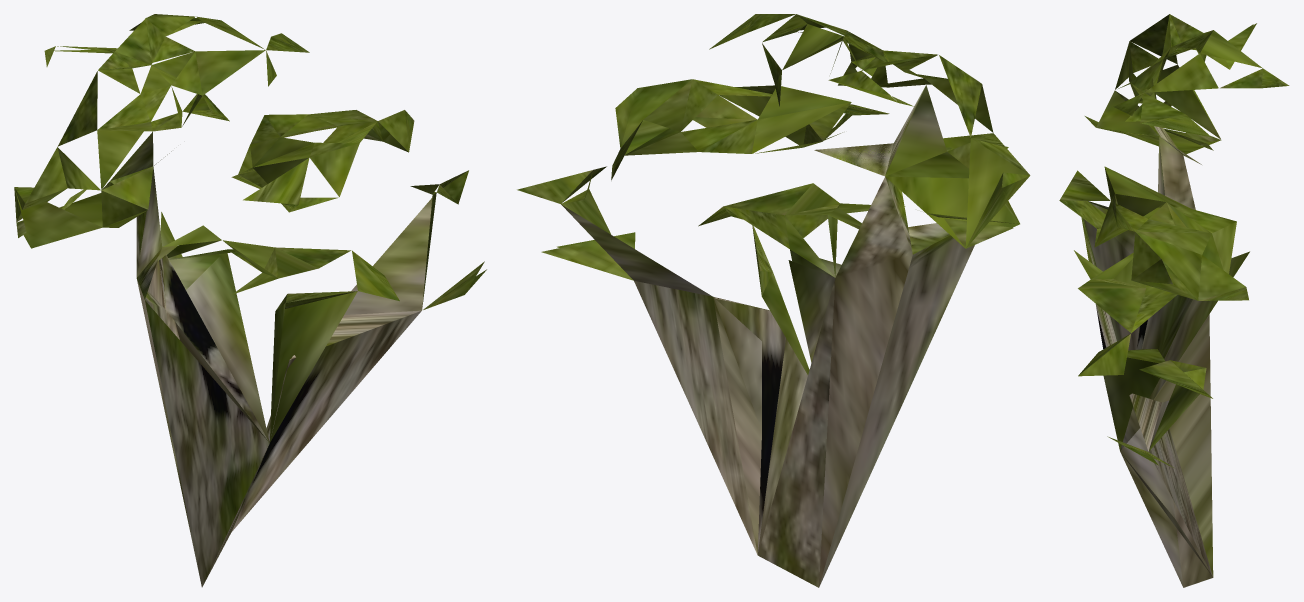
The model's file is fo_forkwood_tree_lod2.glb.
3 renders of one model, left to right at view 1: azimuth 30°, elevation 25°; view 2: azimuth 150°, elevation 25°; view 3: azimuth 270°, elevation 25°, orthographic. The views are drawn at different scales.
Visible parts, largest first — view 1: output_unwrapped; view 2: output_unwrapped; view 3: output_unwrapped.
Part boxes in pixels (x1,y1,x2,y2): output_unwrapped: (14,14,486,587); output_unwrapped: (517,14,1030,587); output_unwrapped: (1059,14,1289,587).
Bounding box in the file's own units: 1.53 × 1.75 × 0.6756.
Materials: 1 (1 with a texture image).
